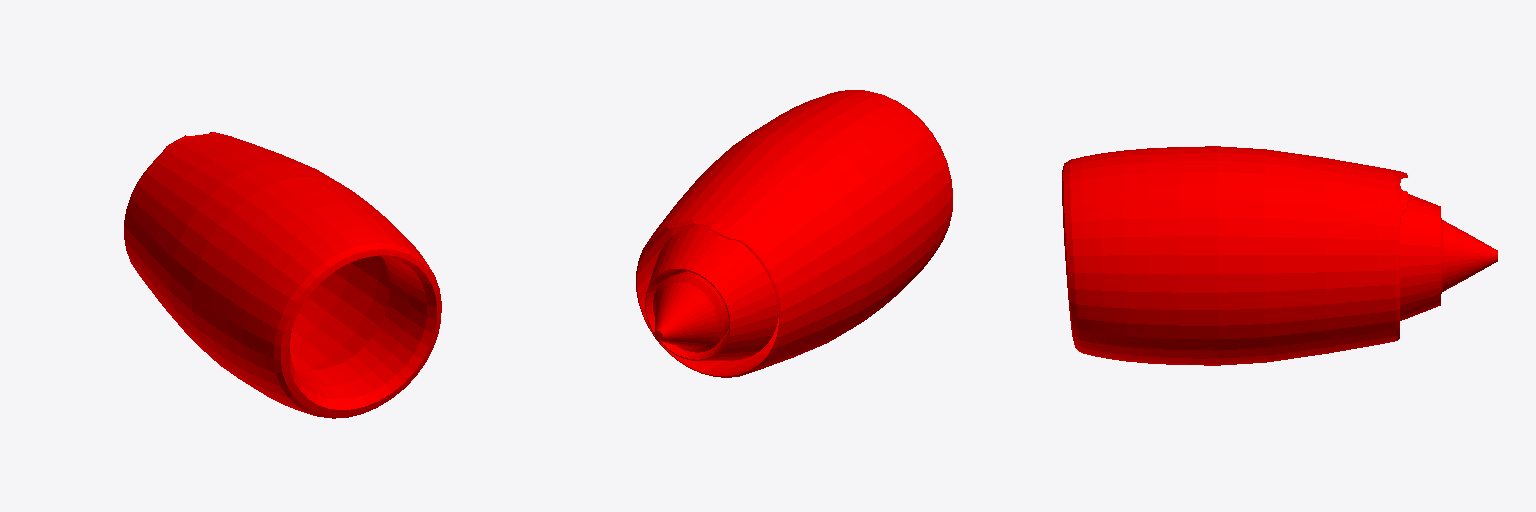
Rendered from 0.0001Outer.obj.
3 renders of one model, left to right at view 1: azimuth 30°, elevation 25°; view 2: azimuth 150°, elevation 25°; view 3: azimuth 270°, elevation 25°, orthographic.
Parts seen in each view (by area): view 1: mesh3ds_index_0; view 2: mesh3ds_index_0; view 3: mesh3ds_index_0.
Part boxes in pixels (x1,y1,x2,y2): mesh3ds_index_0: (124, 132, 441, 418); mesh3ds_index_0: (636, 90, 952, 377); mesh3ds_index_0: (1062, 146, 1497, 365).
Size of the model in its own units: 7.03 by 7.03 by 14.02.